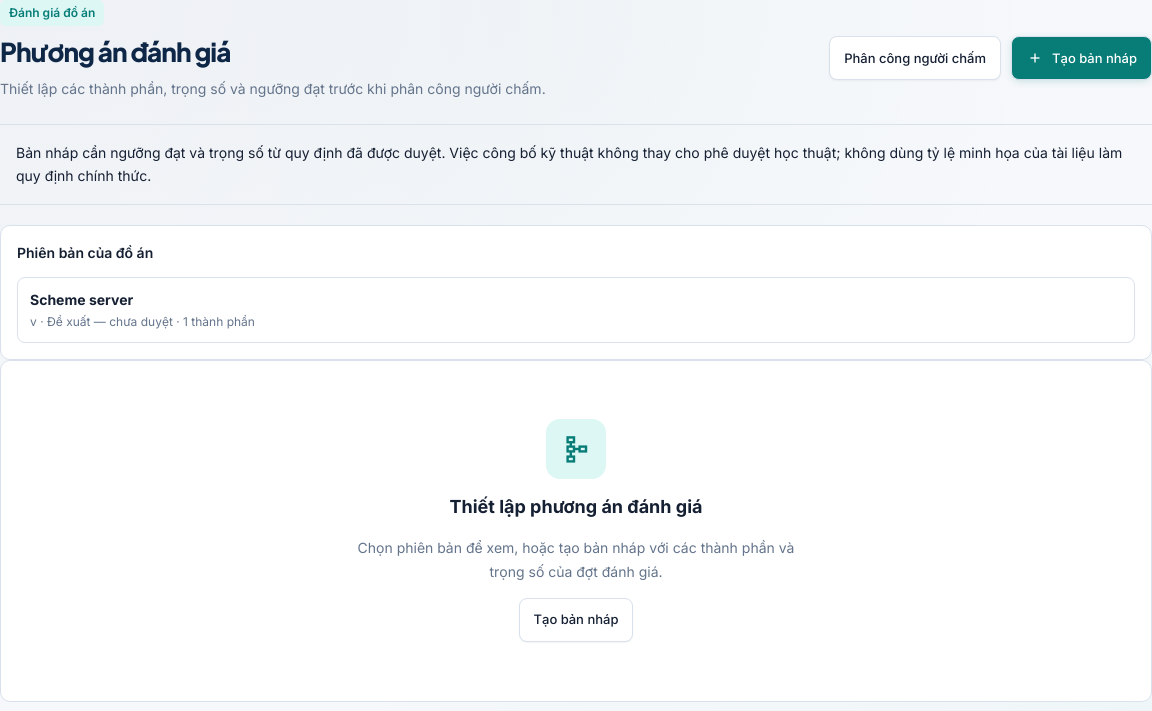
flags a PROPOSED scheme as not-yet-approved so it is not mistaken for official grading
Click the button "Scheme server v · Đề xuất — chưa duyệt · 1 thành phần": [82, 299] box [17,277,1135,343]
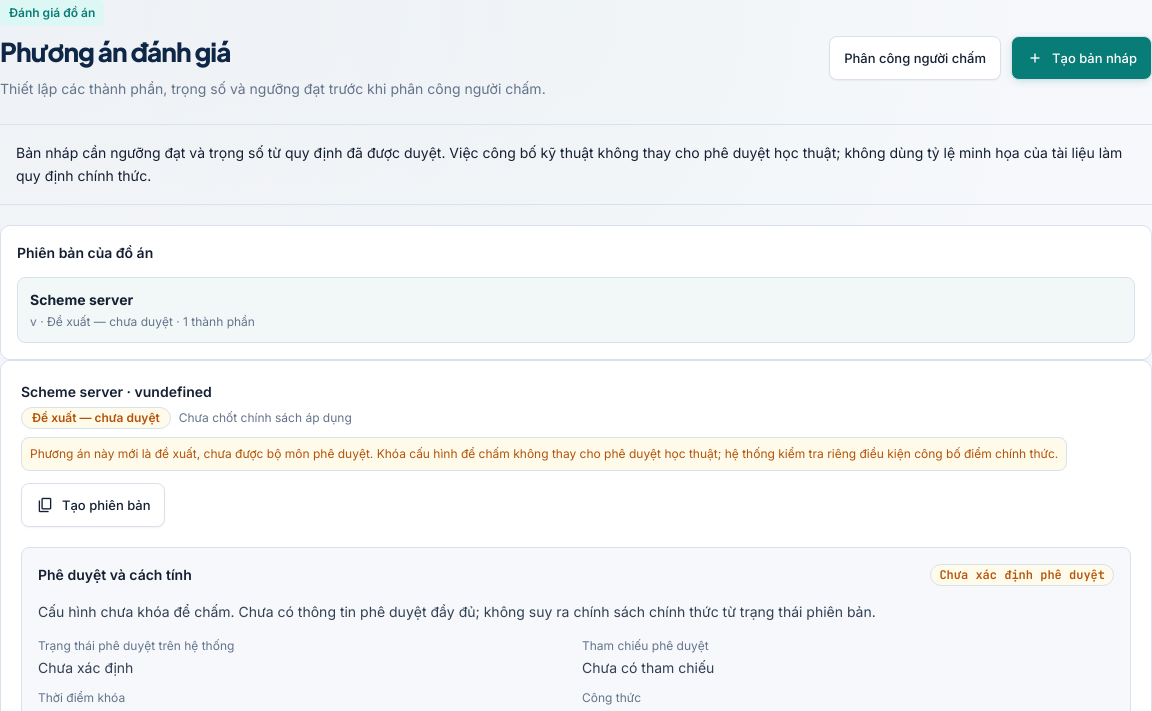
Result: the text "Đề xuất — chưa duyệt" is shown at [21,407,171,429]
Result: the text "chưa được bộ môn phê duyệt" is shown at [30,446,1058,461]
Result: the text "không thay cho phê duyệt học thuật" is shown at [30,446,1058,461]
